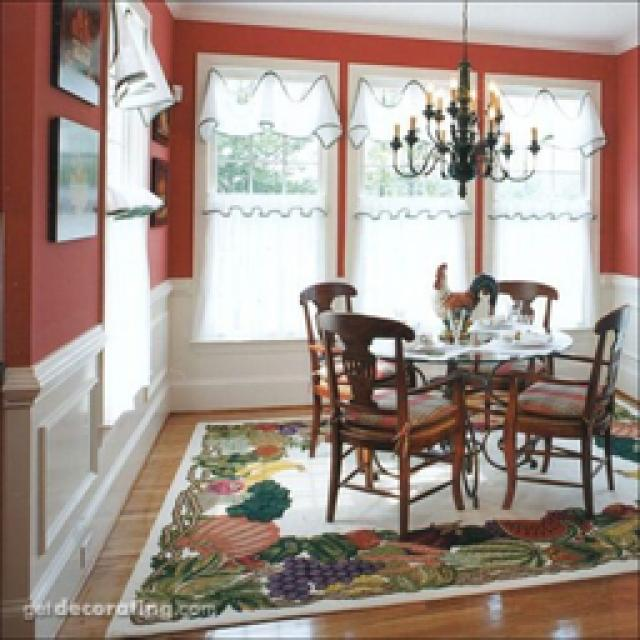2001: (195, 55, 335, 338), (342, 62, 472, 322), (480, 70, 600, 325), (100, 0, 150, 422)
bouquet: (440, 285, 475, 340)
ceiling beam: (168, 0, 632, 52), (485, 80, 608, 152)
ceiling lamps: (388, 0, 538, 195)
chair -occluded-: (315, 310, 462, 535), (500, 302, 628, 512), (292, 278, 352, 452)
curtain crop: (182, 192, 322, 342), (355, 192, 472, 342), (480, 192, 592, 330), (98, 182, 158, 425), (190, 60, 340, 145), (348, 70, 450, 148), (108, 5, 168, 128)
painting crop: (50, 115, 95, 240), (50, 0, 98, 102), (150, 158, 165, 222)
plate food: (512, 330, 552, 350), (408, 340, 445, 352)
rug -partially obscured-: (100, 418, 635, 635)
table -X: (332, 318, 568, 358)
